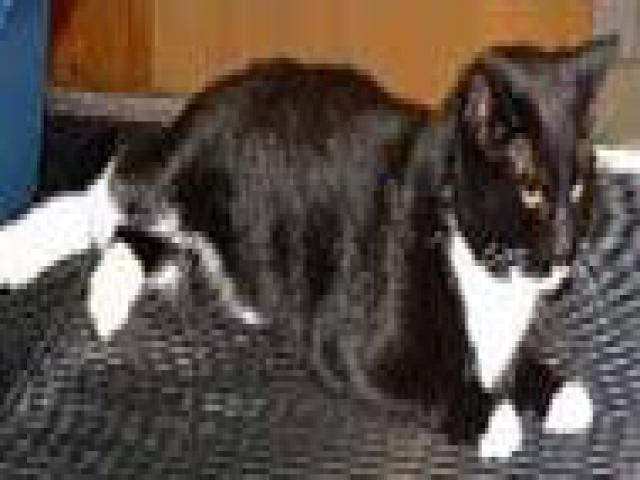cat: (31, 35, 626, 435)
